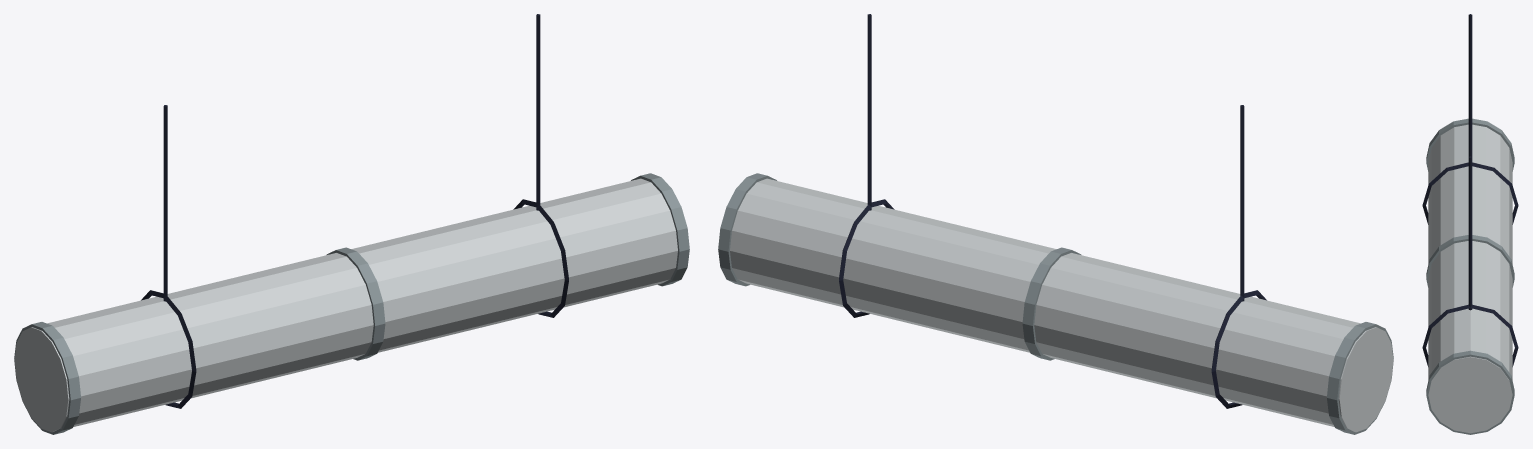
The model's file is sm_env_depot_duct_straight.glb.
The picture shows the model from 3 angles, left to right: view 1: azimuth 30°, elevation 25°; view 2: azimuth 150°, elevation 25°; view 3: azimuth 270°, elevation 25°; orthographic projection. The views are drawn at different scales.
Parts seen in each view (by area): view 1: Duct, DuctBand, DuctBand.001, DuctBand.002, HangerRod, HangerRod.001, HangerStrap.001, HangerStrap; view 2: Duct, DuctBand, DuctBand.001, DuctBand.002, HangerRod, HangerRod.001, HangerStrap.001, HangerStrap; view 3: Duct, DuctBand.002, HangerRod.001, DuctBand, DuctBand.001, HangerRod, HangerStrap, HangerStrap.001.
Boxes of the visible parts, x1,y1,x2,y2 form: Duct: (14,178,677,432); DuctBand: (14,322,80,434); DuctBand.001: (326,247,385,360); DuctBand.002: (631,173,689,286); HangerRod: (163,105,167,301); HangerRod.001: (536,14,540,210); HangerStrap.001: (513,199,568,317); HangerStrap: (141,290,196,408); Duct: (730,178,1393,432); DuctBand: (1327,322,1393,434); DuctBand.001: (1022,247,1081,360); DuctBand.002: (718,173,776,286); HangerRod: (1240,105,1244,301); HangerRod.001: (867,14,871,210); HangerStrap.001: (839,199,894,317); HangerStrap: (1211,290,1266,408); Duct: (1428,124,1512,433); DuctBand.002: (1426,350,1514,434); HangerRod.001: (1468,156,1472,310); DuctBand: (1426,118,1514,171); DuctBand.001: (1426,235,1514,287); HangerRod: (1468,14,1472,156); HangerStrap: (1422,162,1518,224); HangerStrap.001: (1422,304,1518,366).
Size of the model in its own units: 3 by 1.38 by 0.514.
